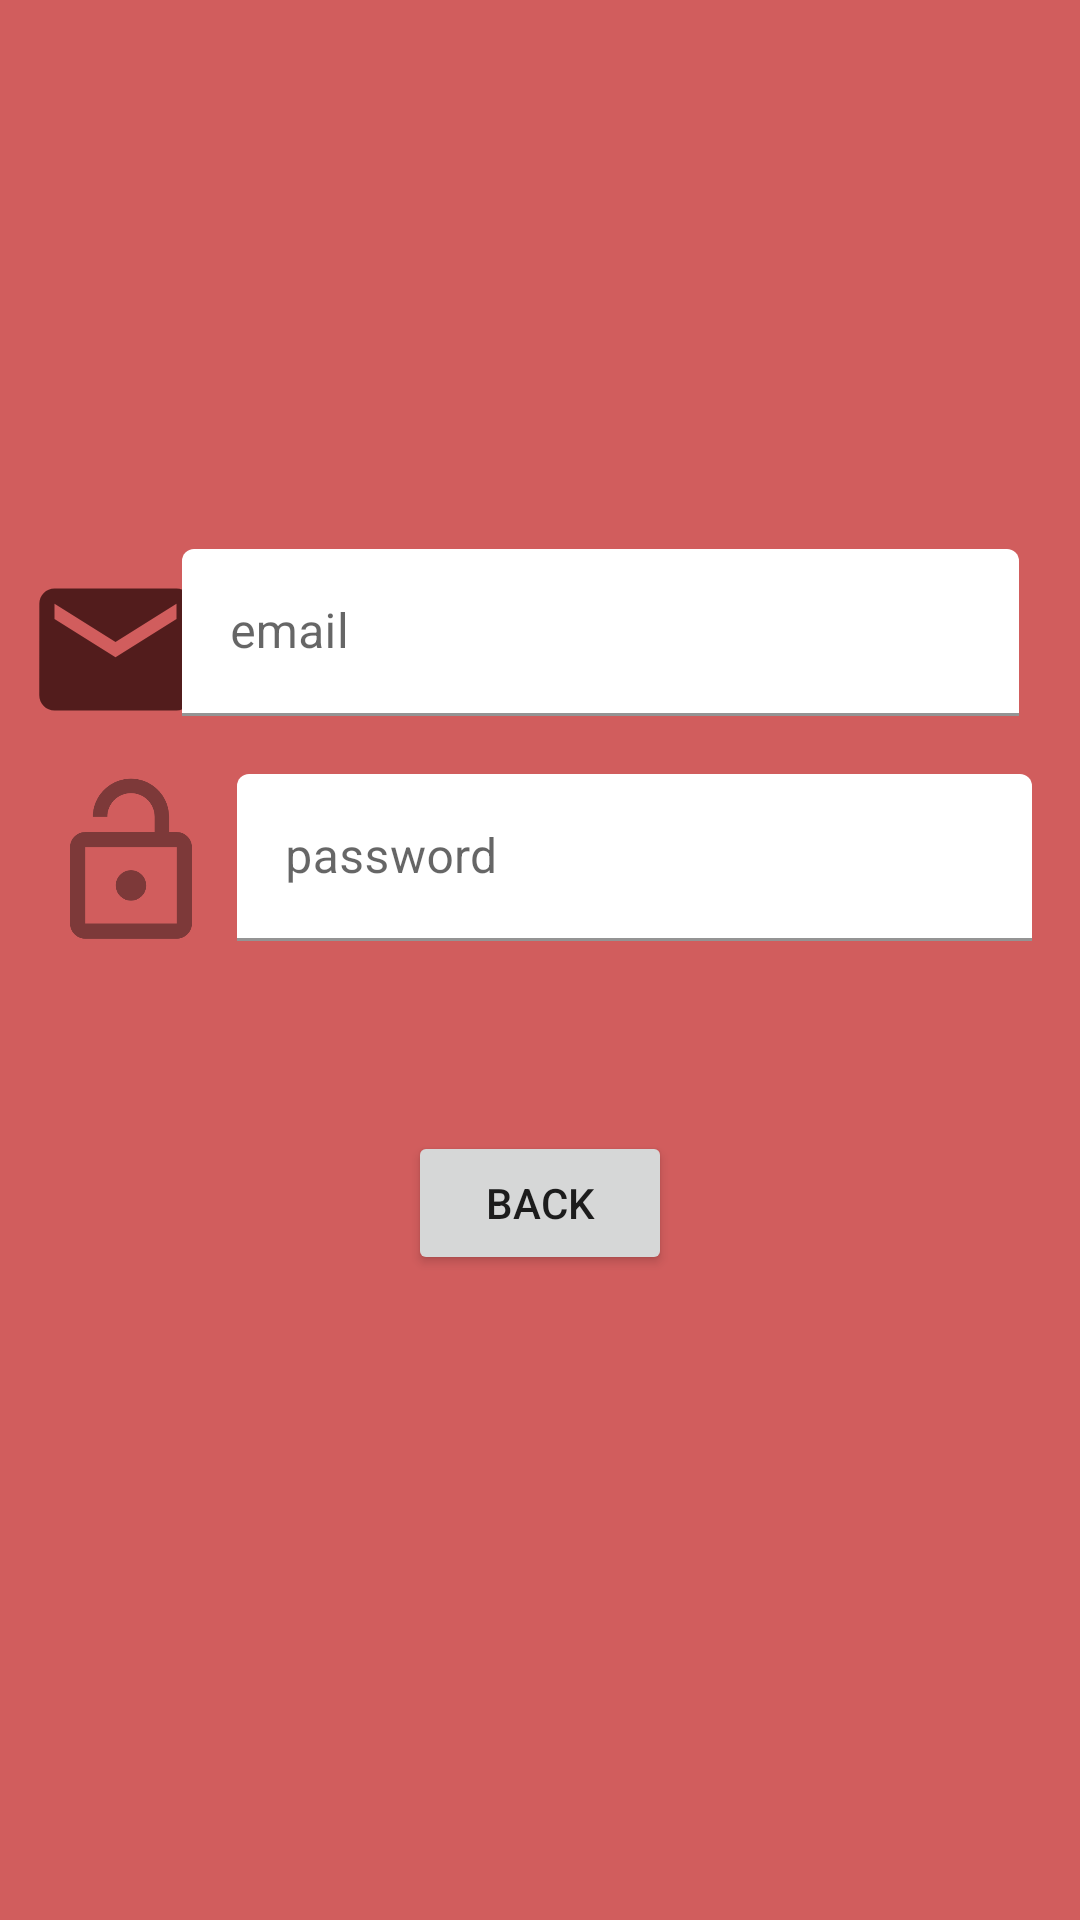

Icon click points for this 1080×1920 phone screenshot, format [x,y]:
lock open: [131,859]
